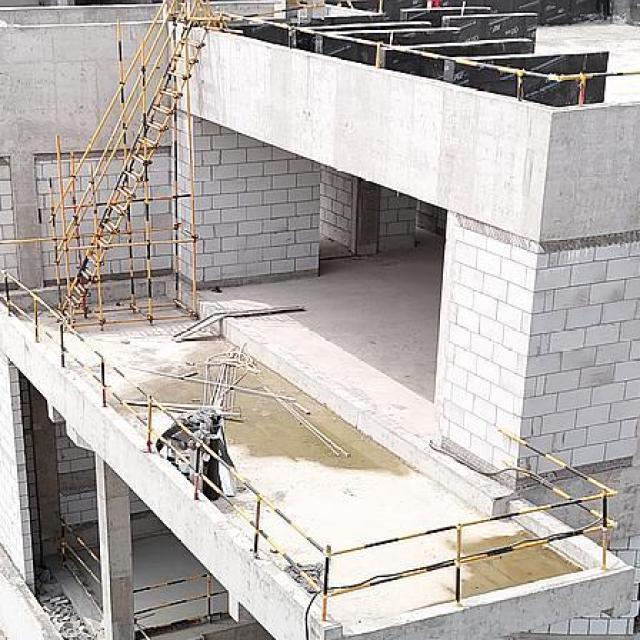Guardrail: (0, 264, 619, 620), (218, 10, 640, 106), (59, 519, 104, 617), (133, 572, 227, 615)
